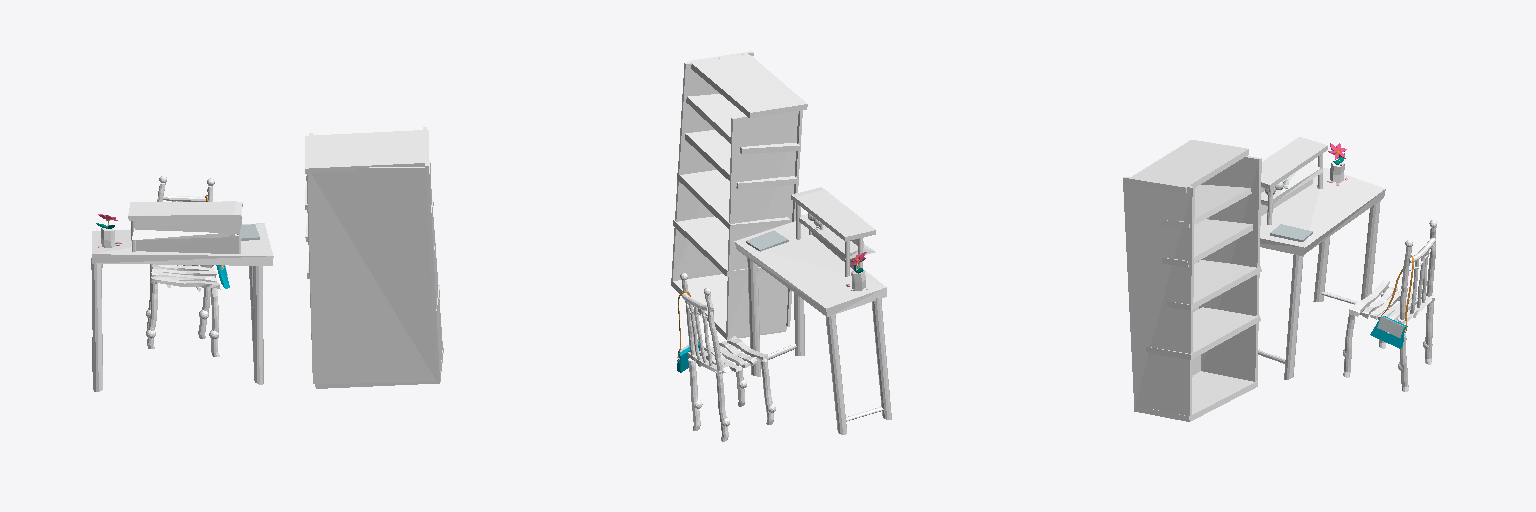
3 views of the same model, side by side, from view 1: azimuth 30°, elevation 25°; view 2: azimuth 150°, elevation 25°; view 3: azimuth 270°, elevation 25° (orthographic).
Visible parts, largest first — view 1: group[number redacted]; view 2: group[number redacted]; view 3: group[number redacted].
Boxes of the visible parts, x1=… form: group[number redacted]: x1=91, y1=127, x2=443, y2=391; group[number redacted]: x1=671, y1=51, x2=891, y2=441; group[number redacted]: x1=1123, y1=137, x2=1436, y2=421.
Bounding box in the file's own units: 0.1745 × 0.1523 × 0.1667.